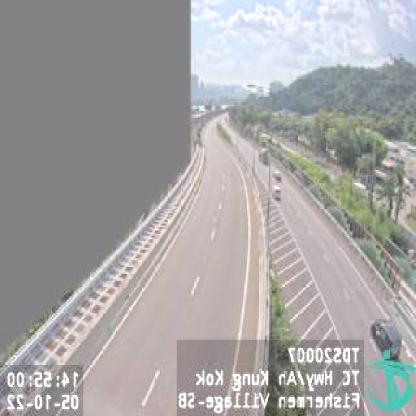Car: (373, 317, 402, 359)
